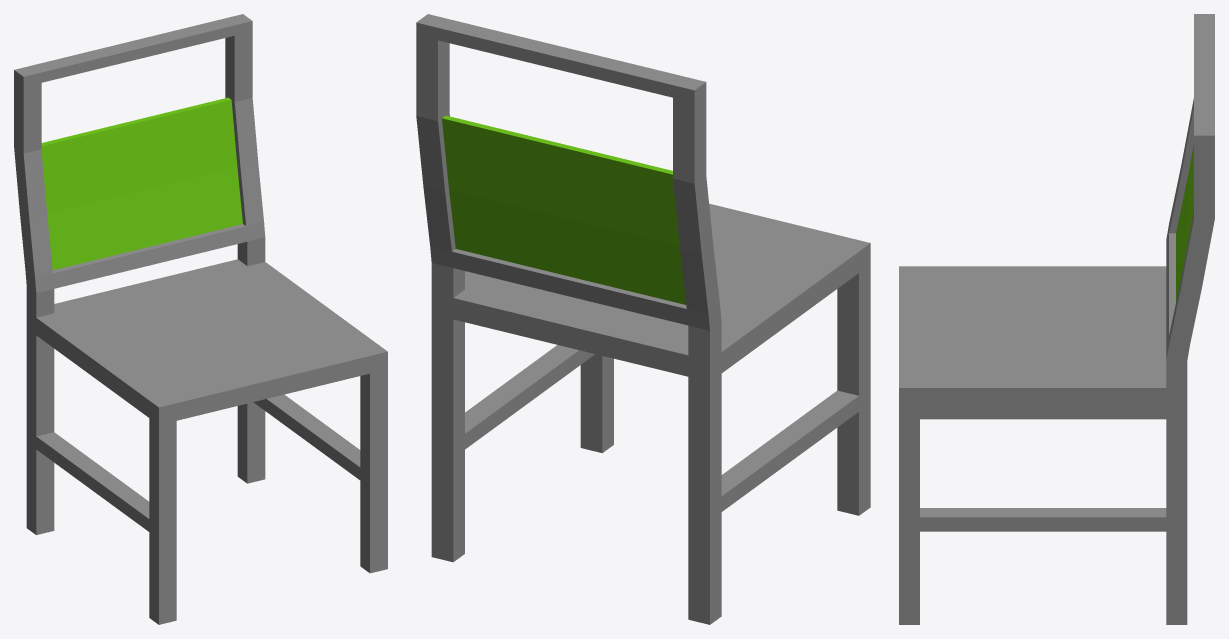
File: diningChair.fbx
The picture shows the model from 3 angles, left to right: view 1: azimuth 30°, elevation 25°; view 2: azimuth 150°, elevation 25°; view 3: azimuth 270°, elevation 25°; orthographic projection. The views are drawn at different scales.
Parts seen in each view (by area): view 1: Cylinder; view 2: Cylinder; view 3: Cylinder.
Part boxes in pixels (<box>): Cylinder: <box>14,14,387,624</box>; Cylinder: <box>416,14,870,624</box>; Cylinder: <box>899,14,1214,624</box>.
Size of the model in its own units: 68.93 by 129 by 75.53.
